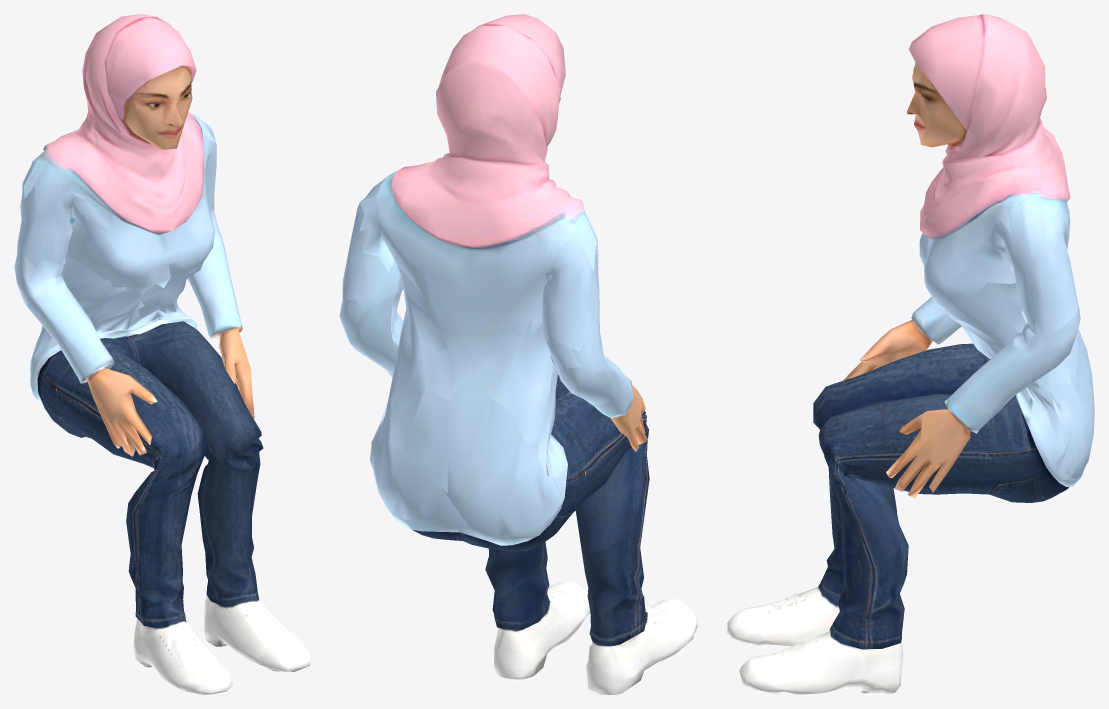
The model's file is fan_tudung_sit.glb.
3 views of the same model, side by side, from view 1: azimuth 30°, elevation 25°; view 2: azimuth 150°, elevation 25°; view 3: azimuth 270°, elevation 25° (orthographic). The views are drawn at different scales.
Visible parts, largest first — view 1: char1; view 2: char1; view 3: char1.
Part boxes in pixels (<box>): char1: <box>14,14,310,694</box>; char1: <box>339,14,697,694</box>; char1: <box>726,14,1094,694</box>.
Size of the model in its own units: 0.4424 by 1.22 by 0.6261.
1 material, 1 textured.
